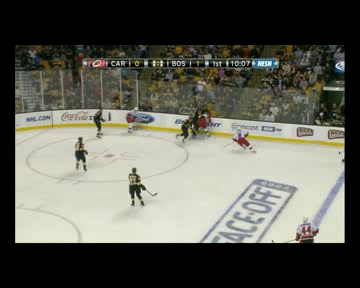normal: (117, 162, 163, 210), (67, 132, 92, 175), (229, 124, 258, 153), (88, 103, 109, 143)
